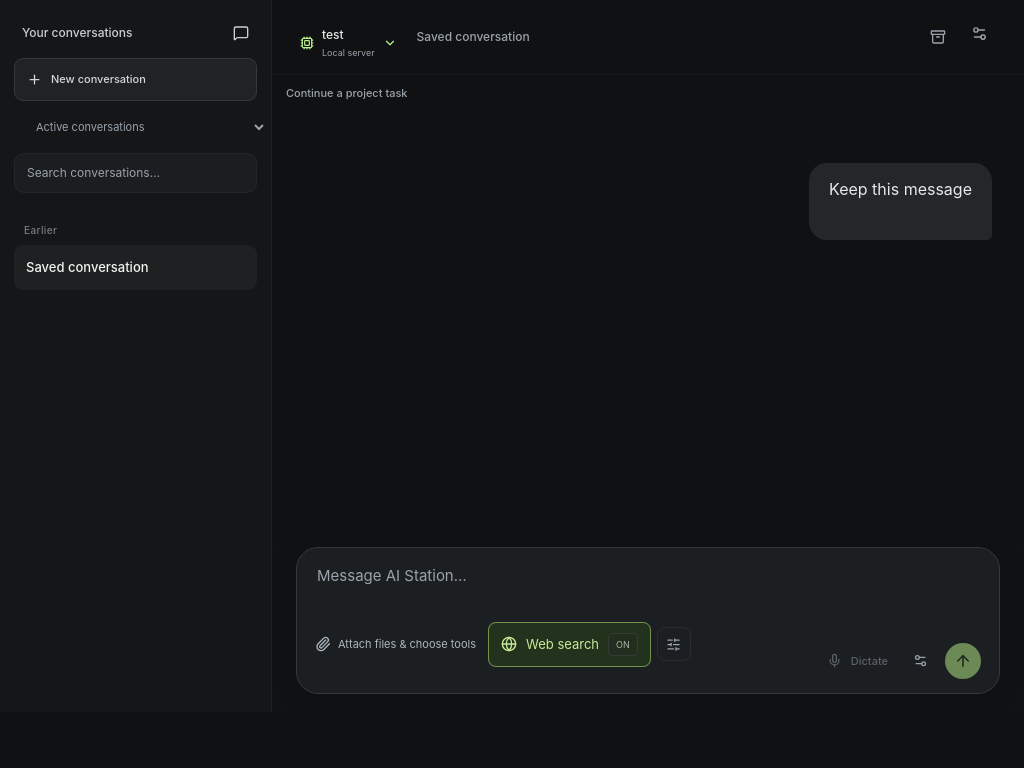
archives and restores without losing messages or sending work
Click the button named "Archive conversation" at (938, 37), box x1=916 y1=19 x2=960 y2=55
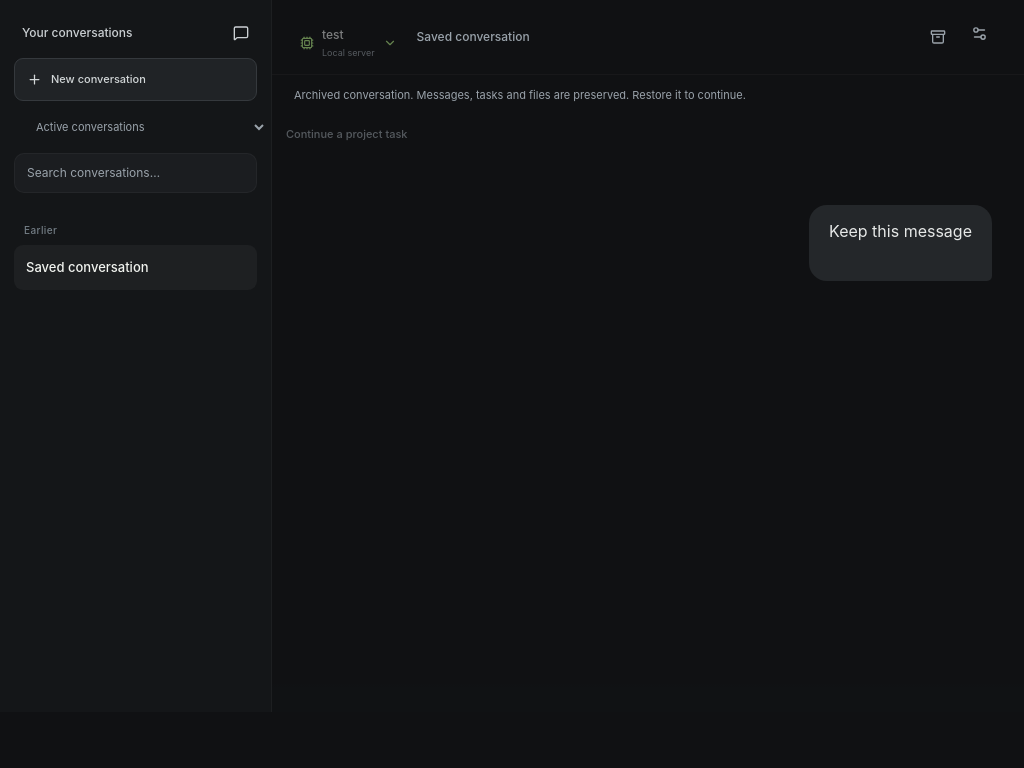
Expected: the text "Keep this message" is shown, x1=829 y1=217 x2=972 y2=245
Click the button named "Restore conversation" at (938, 37), box x1=916 y1=19 x2=960 y2=55
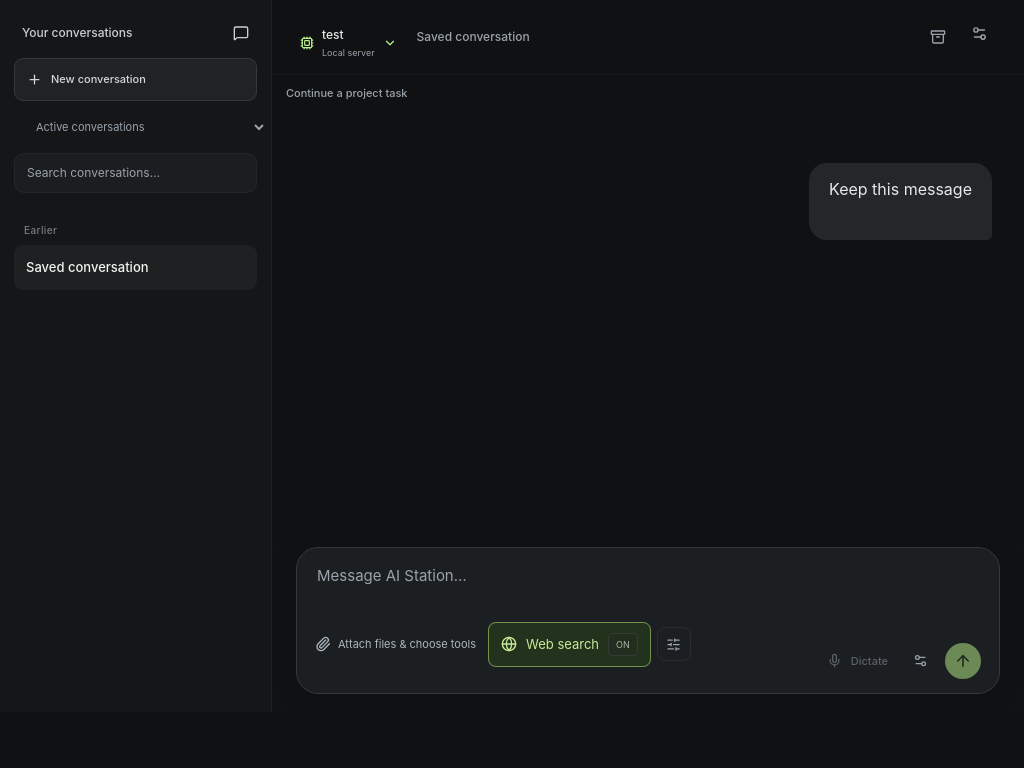
Expected: the text box labelled "Message" is shown, x1=315 y1=562 x2=981 y2=602
